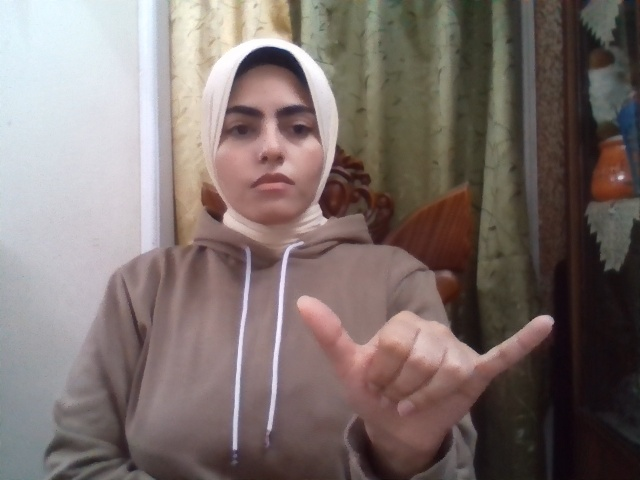Y: (297, 294, 555, 456)
